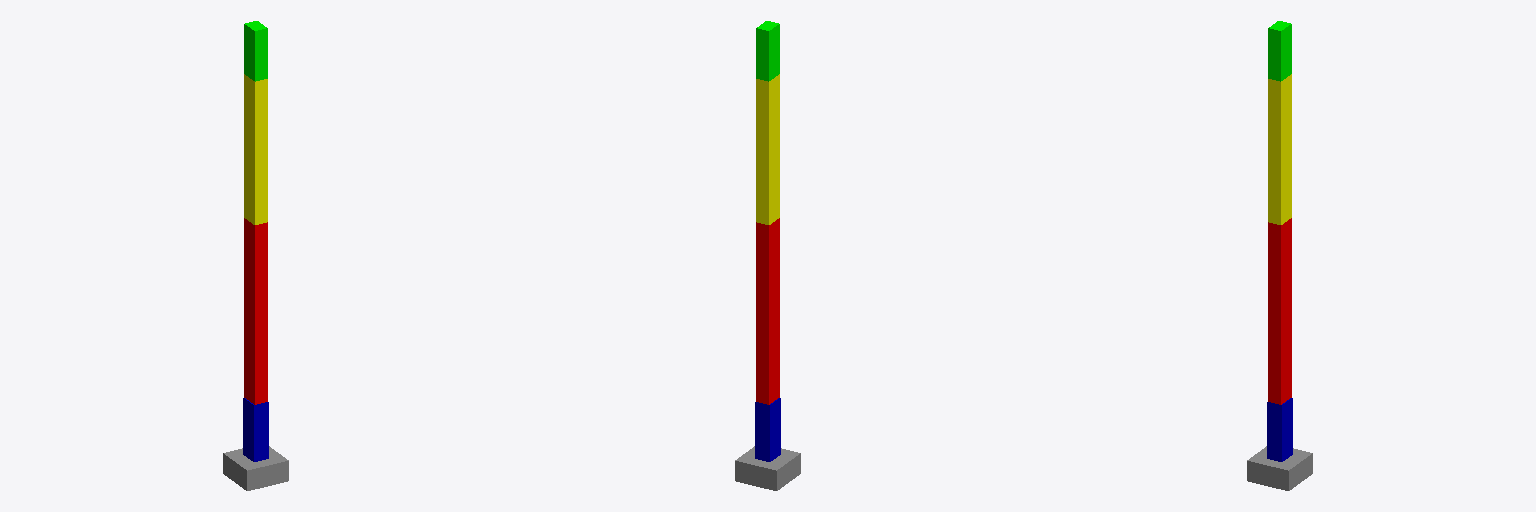
URDF robot description (omnipointer):
<?xml version="1.0" ?>
<!-- =================================================================================== -->
<!-- |    This document was autogenerated by xacro from omni_description/robots/omnipointer_arm_only.urdf.xacro | -->
<!-- |    EDITING THIS FILE BY HAND IS NOT RECOMMENDED                                 | -->
<!-- =================================================================================== -->
<robot name="omnipointer" xmlns:xacro="http://ros.org/wiki/xacro">
  <!--MX64trntbl + MX106:  ? + 0.153 -->
  <!-- singleaxismount + 2.5girder + singleaxismount + base + MX106: 0.007370876 + 0.0226796 + 0.007370876 + ? + 0.153 -->
  <!-- frame106 + singleaxismount + adjustgirder + singleaxismount + base + MX28: 0.0907185 + 0.00737088 + 0.110563 + 0.00737088 + ? + 0.077 -->
  <!-- frame28 + singleaxismount + 5girder + singleaxismount + base + MX28: 0.0907185 + 0.00737088 + 0.0368544 + 0.00737088 + ? + 0.077 -->
  <!-- frame28 + singleaxismount + 2.5girder + singleaxismount + tip: 0.0907185 + 0.00737088 + 0.0226796 + 0.00737088 + ? -->
  <material name="omni/Blue">
    <color rgba="0 0 0.8 1"/>
  </material>
  <material name="omni/Red">
    <color rgba="1 0 0 1"/>
  </material>
  <material name="omni/Green">
    <color rgba="0 1 0 1"/>
  </material>
  <material name="omni/Yellow">
    <color rgba="1 1 0 1"/>
  </material>
  <material name="omni/LightGrey">
    <color rgba="0.6 0.6 0.6 1"/>
  </material>
  <material name="omni/DarkGrey">
    <color rgba="0.4 0.4 0.4 1"/>
  </material>
  <!-- Now we can start using the macros xacro:included above to define the actual omnipointer -->
  <!-- The first use of a macro.  This one was defined in youbot_base/base.urdf.xacro above.
       A macro like this will expand to a set of link and joint definitions, and to additional
       Gazebo-related extensions (sensor plugins, etc).  The macro takes an argument, name,
       that equals "base", and uses it to generate names for its component links and joints
       (e.g., base_link).  The xacro:included origin block is also an argument to the macro.  By convention,
       the origin block defines where the component is w.r.t its parent (in this case the parent
       is the world frame). For more, see http://www.ros.org/wiki/xacro -->
  <!-- foot for arm-->
  <link name="base_link">
    <inertial>
      <origin rpy="0 0 0" xyz="0 0 0"/>
      <mass value="10.0"/>
      <inertia ixx="0.1" ixy="0" ixz="0" iyy="0.1" iyz="0" izz="0.1"/>
    </inertial>
  </link>
  <!-- joint between base_link and arm_0_link -->
  <joint name="arm_joint_0" type="fixed">
    <origin rpy="0 0 0" xyz="0 0 0"/>
    <parent link="base_link"/>
    <child link="arm_link_0"/>
  </joint>
  <link name="arm_link_0">
    <visual>
      <origin rpy="0 0 0" xyz="0 0 0.02725"/>
      <geometry>
        <box size="0.1143 0.1143 0.0545"/>
      </geometry>
      <material name="omni/LightGrey"/>
    </visual>
    <collision>
      <origin rpy="0 0 0" xyz="0 0 0.02725"/>
      <geometry>
        <box size="0.1143 0.1143 0.0545"/>
      </geometry>
    </collision>
    <inertial>
      <!-- CENTER OF MASS -->
      <origin rpy="0 0 0" xyz="0 0 0.02725"/>
      <mass value="0.2"/>
      <!-- box inertia: 1/12*m(y^2+z^2), ... -->
      <inertia ixx="0.000267245666667" ixy="0" ixz="0" iyy="0.000267245666667" iyz="0" izz="0.000435483"/>
    </inertial>
  </link>
  <joint name="arm_joint_1" type="revolute">
    <parent link="arm_link_0"/>
    <child link="arm_link_1"/>
    <dynamics damping="3.0" friction="0.3"/>
    <limit effort="30.0" lower="-3.1415926535" upper="3.1415926535" velocity="5.0"/>
    <origin rpy="0 0 0" xyz="0 0 0.0545"/>
    <axis xyz="0 0 1"/>
  </joint>
  <link name="arm_link_1">
    <visual>
      <origin rpy="0 0 0" xyz="0 0 0.075"/>
      <geometry>
        <box size="0.0402 0.05 0.15"/>
      </geometry>
      <material name="omni/Blue"/>
    </visual>
    <collision>
      <origin rpy="0 0 0" xyz="0 0 0.075"/>
      <geometry>
        <box size="0.0402 0.05 0.15"/>
      </geometry>
    </collision>
    <inertial>
      <!-- CENTER OF MASS -->
      <origin rpy="0 0 0" xyz="0 0 0.075"/>
      <mass value="0.190421352"/>
      <!-- box inertia: 1/12*m(y^2+z^2), ... -->
      <inertia ixx="0.000279744834534" ixy="0" ixz="0" iyy="0.000265717763008" iyz="0" izz="6.53151584738e-05"/>
    </inertial>
  </link>
  <joint name="arm_joint_2" type="revolute">
    <parent link="arm_link_1"/>
    <child link="arm_link_2"/>
    <dynamics damping="3.0" friction="0.3"/>
    <limit effort="30.0" lower="-1.57079632679" upper="1.57079632679" velocity="5.0"/>
    <origin rpy="0 0 0" xyz="0 0 0.15"/>
    <axis xyz="0 1 0"/>
  </joint>
  <link name="arm_link_2">
    <visual>
      <origin rpy="0 0 0" xyz="0 0 0.2355"/>
      <geometry>
        <box size="0.0356 0.05 0.471"/>
      </geometry>
      <material name="omni/Red"/>
    </visual>
    <collision>
      <origin rpy="0 0 0" xyz="0 0 0.2355"/>
      <geometry>
        <box size="0.0356 0.05 0.471"/>
      </geometry>
    </collision>
    <inertial>
      <!-- CENTER OF MASS -->
      <origin rpy="0 0 0" xyz="0 0 0.2355"/>
      <mass value="0.29302326"/>
      <!-- box inertia: 1/12*m(y^2+z^2), ... -->
      <inertia ixx="0.00251484771035" ixy="0" ixz="0" iyy="0.00248474836108" iyz="0" izz="9.19936757328e-05"/>
    </inertial>
  </link>
  <joint name="arm_joint_3" type="revolute">
    <parent link="arm_link_2"/>
    <child link="arm_link_3"/>
    <dynamics damping="3.0" friction="0.3"/>
    <limit effort="30.0" lower="-1.57079632679" upper="1.57079632679" velocity="5.0"/>
    <origin rpy="0 0 0" xyz="0 0 0.471"/>
    <axis xyz="0 1 0"/>
  </joint>
  <link name="arm_link_3">
    <visual>
      <origin rpy="0 0 0" xyz="0 0 0.1885"/>
      <geometry>
        <box size="0.0356 0.05 0.377"/>
      </geometry>
      <material name="omni/Yellow"/>
    </visual>
    <collision>
      <origin rpy="0 0 0" xyz="0 0 0.1885"/>
      <geometry>
        <box size="0.0356 0.05 0.377"/>
      </geometry>
    </collision>
    <inertial>
      <!-- CENTER OF MASS -->
      <origin rpy="0 0 0" xyz="0 0 0.1885"/>
      <mass value="0.21931466"/>
      <!-- box inertia: 1/12*m(y^2+z^2), ... -->
      <inertia ixx="0.000791433503053" ixy="0" ixz="0" iyy="0.000768905501178" iyz="0" izz="6.88531064581e-05"/>
    </inertial>
  </link>
  <joint name="arm_joint_4" type="revolute">
    <parent link="arm_link_3"/>
    <child link="arm_link_4"/>
    <dynamics damping="3.0" friction="0.3"/>
    <limit effort="30.0" lower="-1.57079632679" upper="1.57079632679" velocity="5.0"/>
    <origin rpy="0 0 0" xyz="0 0 0.377"/>
    <axis xyz="0 1 0"/>
  </joint>
  <link name="arm_link_4">
    <visual>
      <origin rpy="0 0 0" xyz="0 0 0.066"/>
      <geometry>
        <box size="0.0356 0.05 0.132"/>
      </geometry>
      <material name="omni/Green"/>
    </visual>
    <collision>
      <origin rpy="0 0 0" xyz="0 0 0.066"/>
      <geometry>
        <box size="0.0356 0.05 0.132"/>
      </geometry>
    </collision>
    <inertial>
      <!-- CENTER OF MASS -->
      <origin rpy="0 0 0" xyz="0 0 0.066"/>
      <mass value="0.15813986"/>
      <!-- box inertia: 1/12*m(y^2+z^2), ... -->
      <inertia ixx="0.00037242266488" ixy="0" ixz="0" iyy="0.000356178538461" iyz="0" izz="4.96474819141e-05"/>
    </inertial>
  </link>
  <joint name="arm_joint_5" type="fixed">
    <parent link="arm_link_4"/>
    <child link="arm_link_5"/>
    <origin rpy="0 0 0" xyz="0 0 0.132"/>
  </joint>
  <link name="arm_link_5">
    <inertial>
      <!-- CENTER OF MASS -->
      <origin rpy="0 0 0" xyz="0 0 0"/>
      <mass value="1e-12"/>
      <!-- box inertia: 1/12*m(y^2+z^2), ... -->
      <inertia ixx="1e-12" ixy="0" ixz="0" iyy="1e-12" iyz="0" izz="1e-12"/>
    </inertial>
  </link>
  <!-- END OF ARM LINKS/JOINTS -->
</robot>

--- Render facts (derived) ---
The picture shows the robot from 3 angles, left to right: view 1: azimuth 30°, elevation 25°; view 2: azimuth 150°, elevation 25°; view 3: azimuth 330°, elevation 25°; orthographic projection.
Robot: omnipointer — 7 links, 6 joints (4 revolute, 2 fixed); root link base_link; default pose: every joint at zero.
Links seen in each view (by area): view 1: arm_link_2, arm_link_3, arm_link_0, arm_link_1, arm_link_4; view 2: arm_link_2, arm_link_3, arm_link_0, arm_link_1, arm_link_4; view 3: arm_link_2, arm_link_3, arm_link_0, arm_link_1, arm_link_4.
Link boxes in pixels (<box>): arm_link_2: <box>244,218,267,404</box>; arm_link_3: <box>244,74,267,224</box>; arm_link_0: <box>223,446,288,490</box>; arm_link_1: <box>243,398,268,461</box>; arm_link_4: <box>244,21,267,81</box>; arm_link_2: <box>756,218,779,404</box>; arm_link_3: <box>756,74,779,224</box>; arm_link_0: <box>735,446,800,490</box>; arm_link_1: <box>755,398,780,461</box>; arm_link_4: <box>756,21,779,81</box>; arm_link_2: <box>1268,218,1291,404</box>; arm_link_3: <box>1268,74,1291,224</box>; arm_link_0: <box>1247,446,1312,490</box>; arm_link_1: <box>1267,398,1292,461</box>; arm_link_4: <box>1268,21,1291,81</box>.
Size in the robot's own frame: 0.1143 by 0.1143 by 1.18 metres.
Geometry: primitives only (box / cylinder / sphere), no mesh files.
